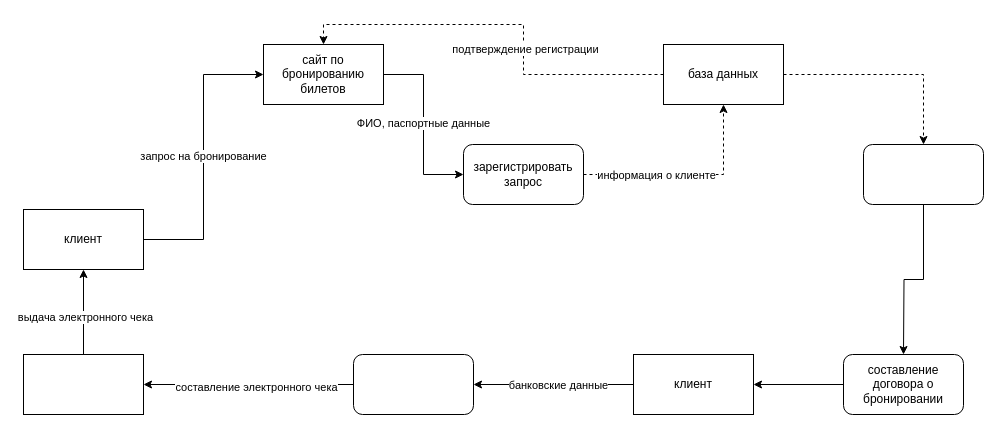
This 1001x432 diagram has some shape labels left out. The box of each missing label's shape, as (x1, y1, x2, y2) in pixels:
касса: (22, 354, 144, 414)
оплата билета: (352, 354, 474, 414)
предоставление информации о доступных билетах: (862, 144, 984, 204)
